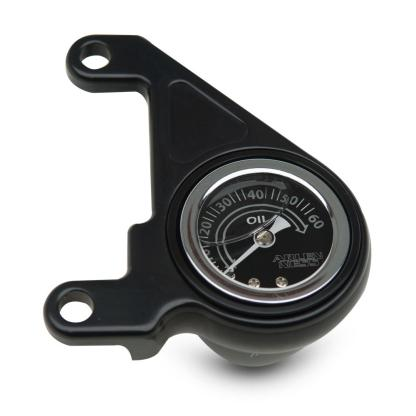needle: (223, 243, 260, 275)
